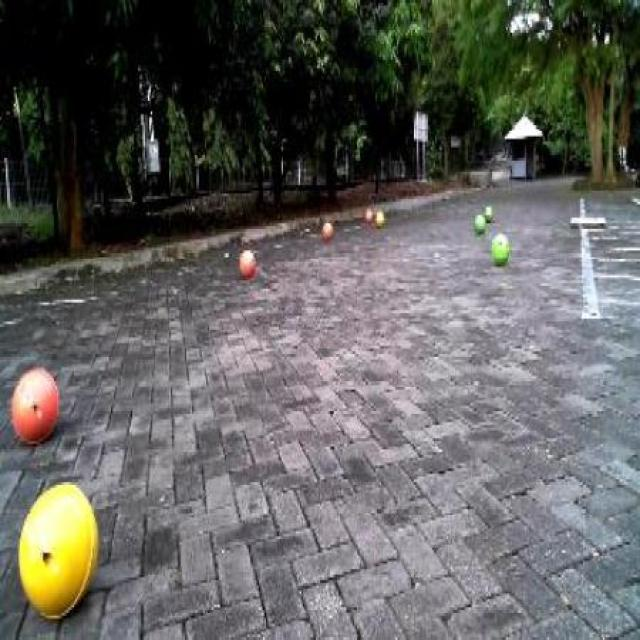buoy: (10, 470, 109, 625), (2, 351, 66, 458), (230, 235, 262, 291), (482, 224, 516, 270), (312, 207, 341, 248), (368, 199, 388, 229)
